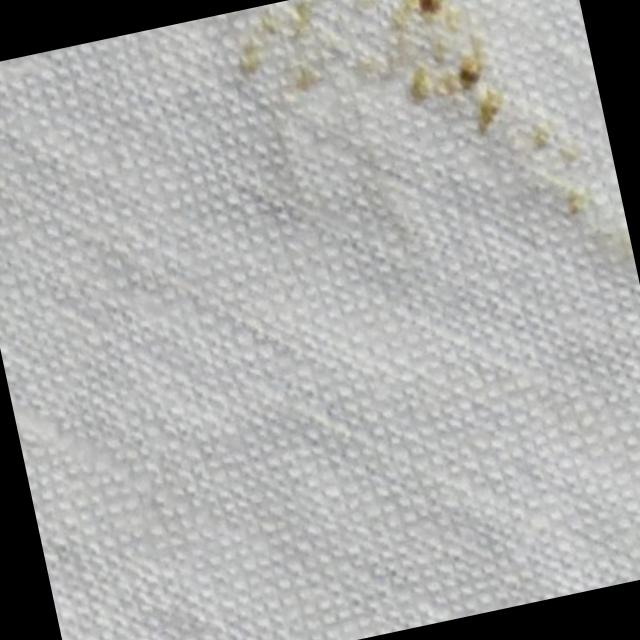Stain: (206, 0, 635, 341)
